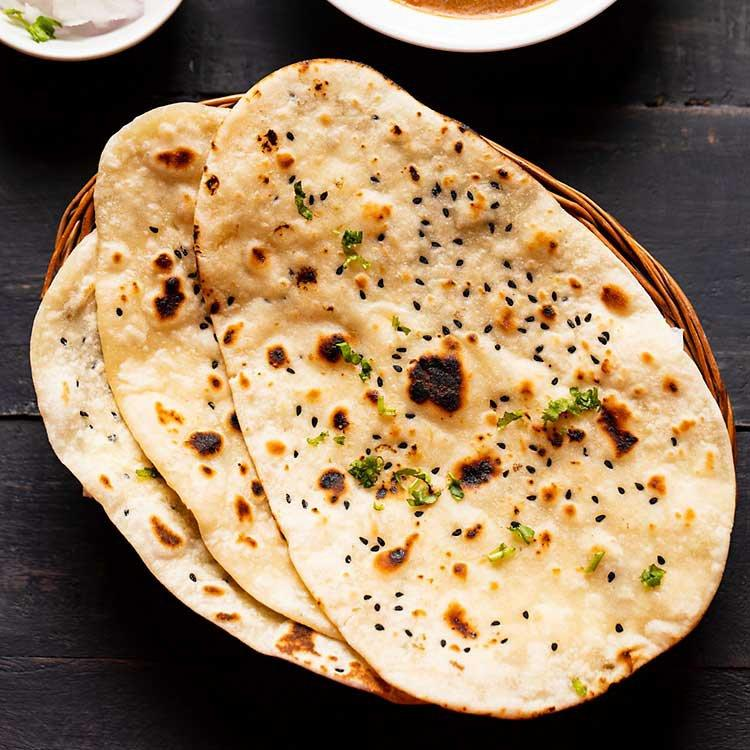Naan: (38, 71, 737, 720)
